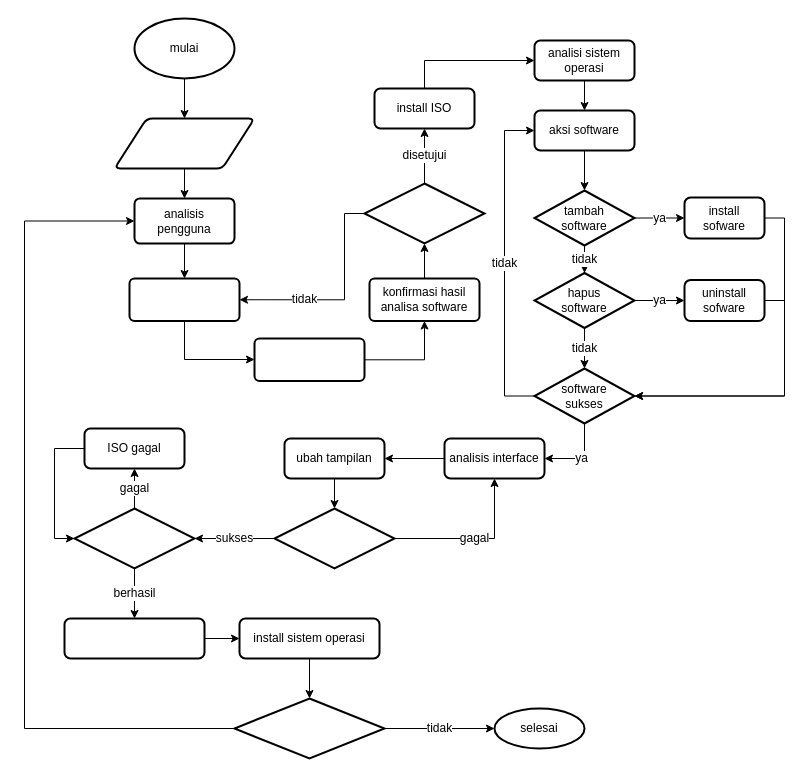
This 810x776 diagram has some shape labels left out. The shapes that lost their labels are listed below. From the top down, each one's centre as x and y in pixels, then its label:
point (184, 143): pengumpulan informasi
point (424, 213): persetujuan
point (184, 299): analisis software
point (309, 359): hasil analisa software
point (134, 538): pembuatan filw ISO
point (334, 538): pengujian interface
point (134, 638): file ISO sukses
point (309, 728): perbaikan/update sistem operasi
